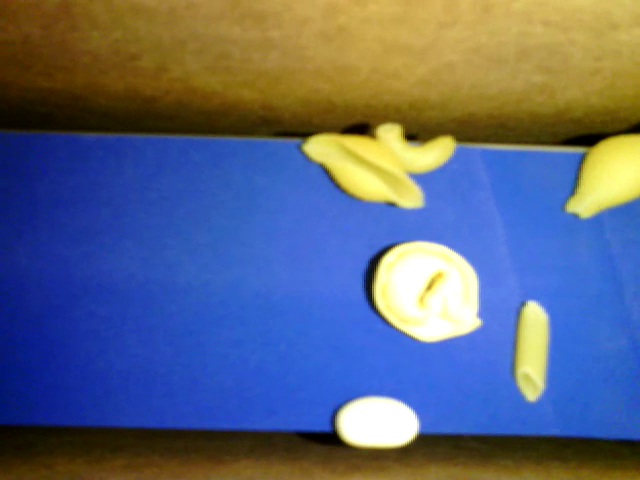elbow: (375, 121, 457, 175)
penne: (514, 297, 547, 403)
shell: (302, 131, 424, 210), (564, 133, 639, 219)
tortellini: (372, 238, 485, 345)
